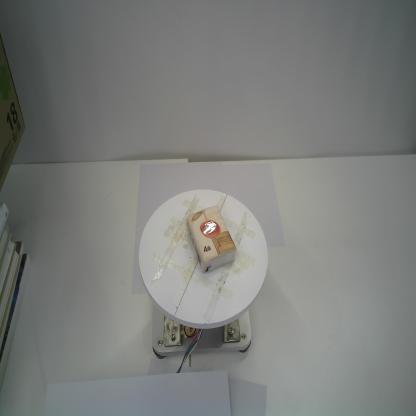Tissue: (186, 204, 238, 274)
